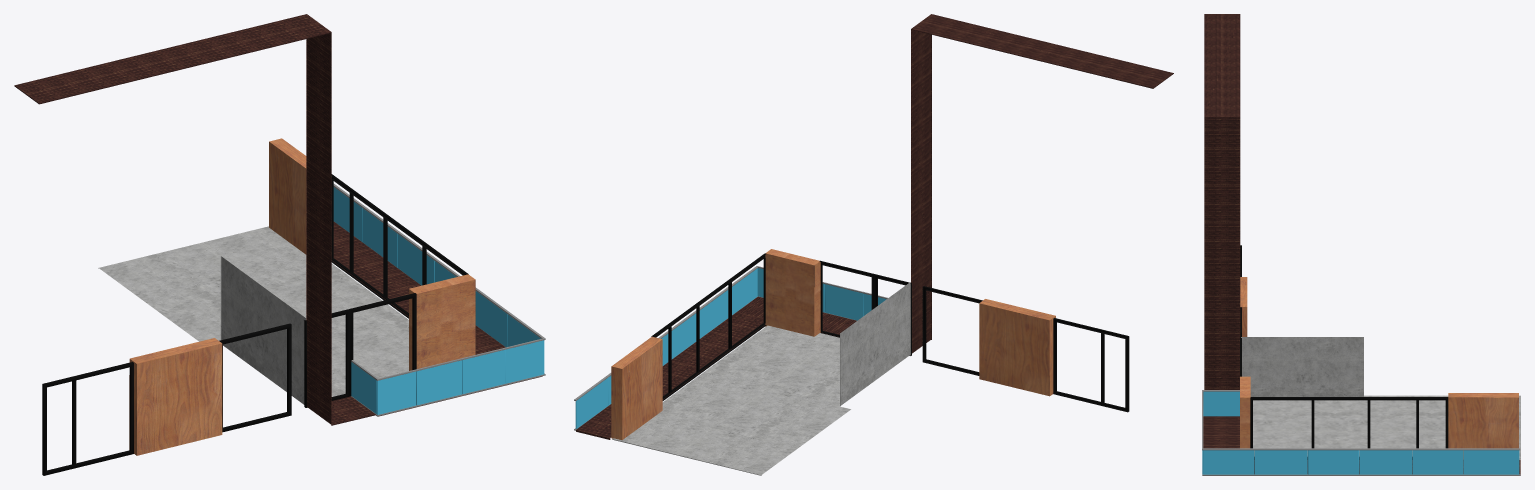
File: house_01_section_3.FBX
3 views of the same model, side by side, from view 1: azimuth 30°, elevation 25°; view 2: azimuth 150°, elevation 25°; view 3: azimuth 270°, elevation 25° (orthographic). The views are drawn at different scales.
Visible parts, largest first — view 1: Plane135, Plane134, Object1089, Object1088, Object1090, Plane160, Plane161; view 2: Plane135, Object1089, Plane134, Object1090, Object1088, Plane160, Plane161; view 3: Plane135, Plane134, Object1088, Object1089, Object1090, Plane160, Plane161, Plane162.
Part boxes in pixels (x1,y1,x2,y2): Plane135: [98, 226, 408, 404]; Plane134: [14, 14, 375, 425]; Object1089: [129, 138, 475, 455]; Object1088: [333, 187, 544, 414]; Object1090: [42, 174, 468, 475]; Plane160: [331, 222, 542, 416]; Plane161: [333, 183, 545, 380]; Plane135: [612, 282, 910, 475]; Object1089: [611, 249, 1055, 439]; Plane134: [911, 14, 1173, 353]; Object1090: [651, 253, 1129, 412]; Object1088: [575, 268, 886, 428]; Plane160: [576, 296, 856, 439]; Plane161: [574, 266, 887, 400]; Plane135: [1241, 337, 1520, 459]; Plane134: [1204, 14, 1240, 389]; Object1088: [1202, 391, 1519, 474]; Object1089: [1240, 277, 1518, 459]; Object1090: [1240, 245, 1448, 459]; Plane160: [1203, 416, 1520, 475]; Plane161: [1202, 390, 1520, 450]; Plane162: [1202, 474, 1520, 475].
Bounding box in the file's own units: 17952 × 13563 × 13610.
